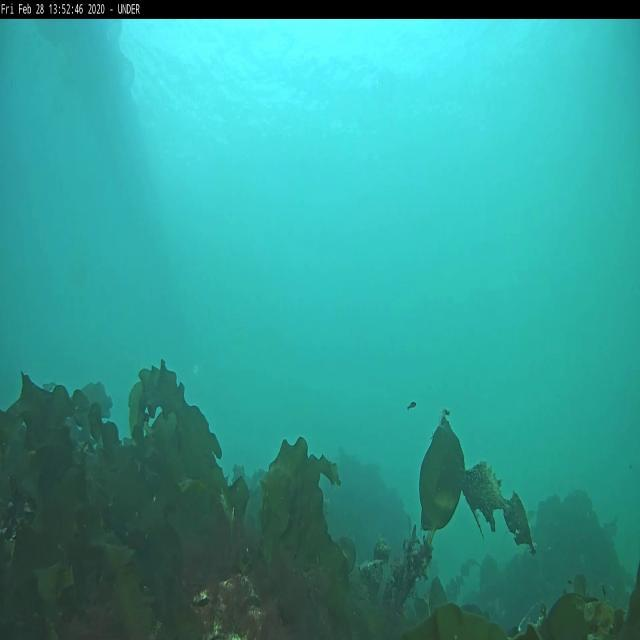fish: (406, 400, 417, 412)
